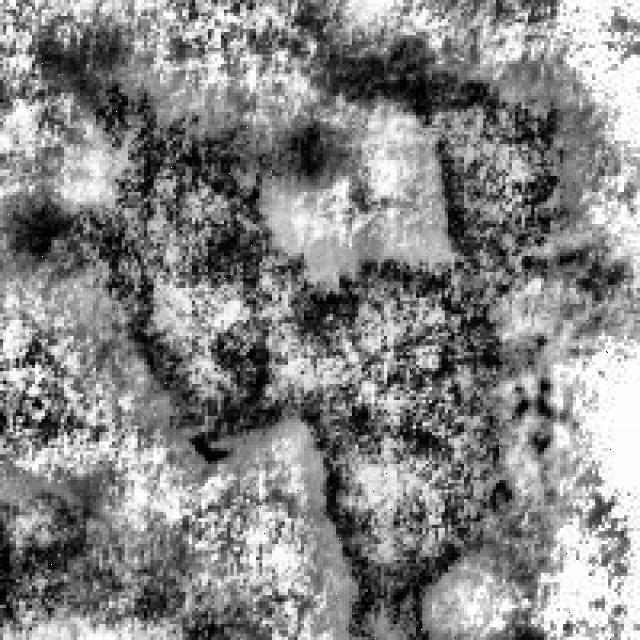Scratches: (6, 48, 326, 461), (288, 244, 541, 630), (291, 26, 627, 260), (0, 480, 122, 637)
